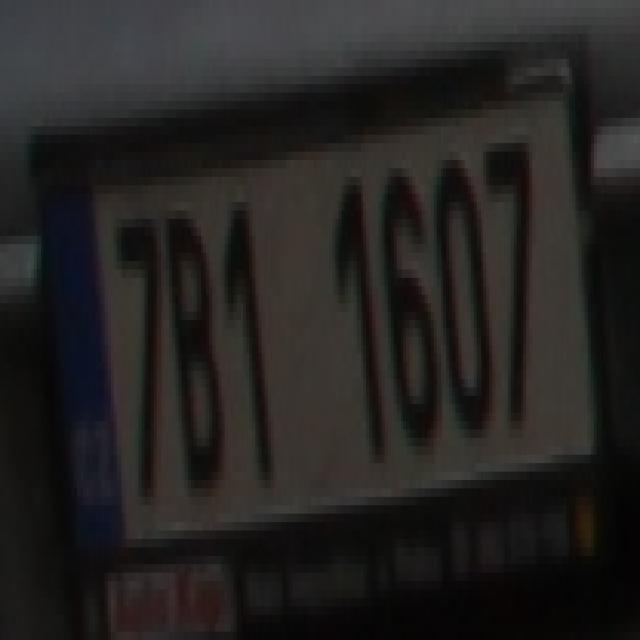0: (437, 126, 489, 430)
1: (221, 202, 277, 497), (338, 168, 388, 480)
6: (382, 160, 443, 446)
7: (486, 126, 539, 421), (111, 210, 160, 497)
B: (163, 202, 222, 497)
